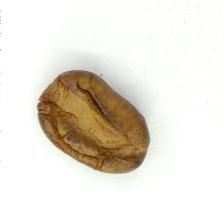NG: (43, 78, 133, 172)
